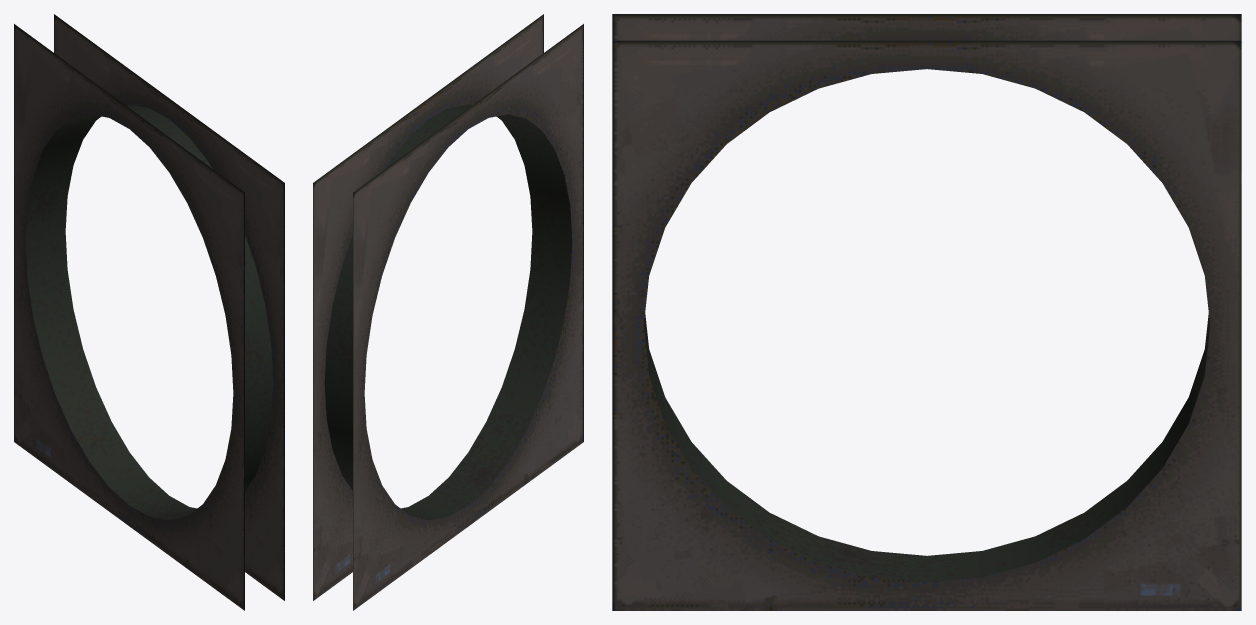
The model's file is fan_casing_big.fbx.
The picture shows the model from 3 angles, left to right: view 1: azimuth 30°, elevation 25°; view 2: azimuth 150°, elevation 25°; view 3: azimuth 270°, elevation 25°; orthographic projection. The views are drawn at different scales.
Parts seen in each view (by area): view 1: casing_big; view 2: casing_big; view 3: casing_big.
Part boxes in pixels (left/top/right/bottom): casing_big: left=14, top=14, right=284, bottom=610; casing_big: left=313, top=14, right=583, bottom=610; casing_big: left=612, top=14, right=1241, bottom=610.
Bounding box in the file's own units: 39.5 × 395 × 395.
